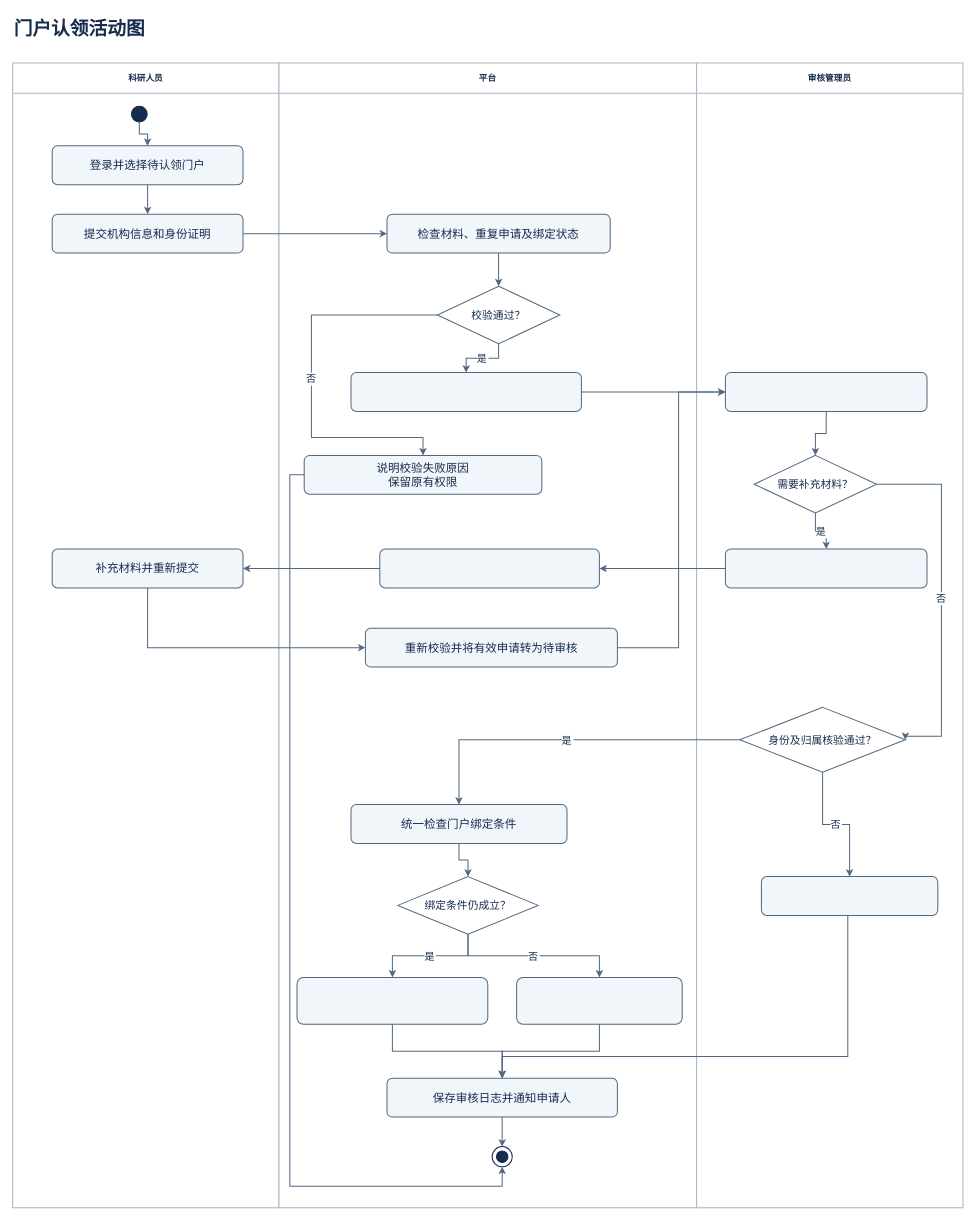
This 976x1220 diagram has some shape labels left out. Here are the shapes that lost their labels. From the top down, the centre of each, then its label:
point (466, 392): 生成申请编号，进入待审核
point (826, 392): 核对身份及成果关联证据
point (489, 568): 转为待补充并通知申请人
point (826, 568): 记录补充材料要求
point (849, 896): 记录已驳回及原因
point (392, 1000): 统一记录审核结果 并授予管理权限
point (599, 1000): 维持待审核状态 记录冲突并提示复核
